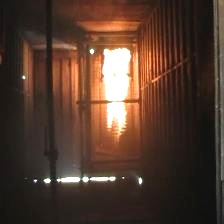fire: (99, 46, 140, 148)
